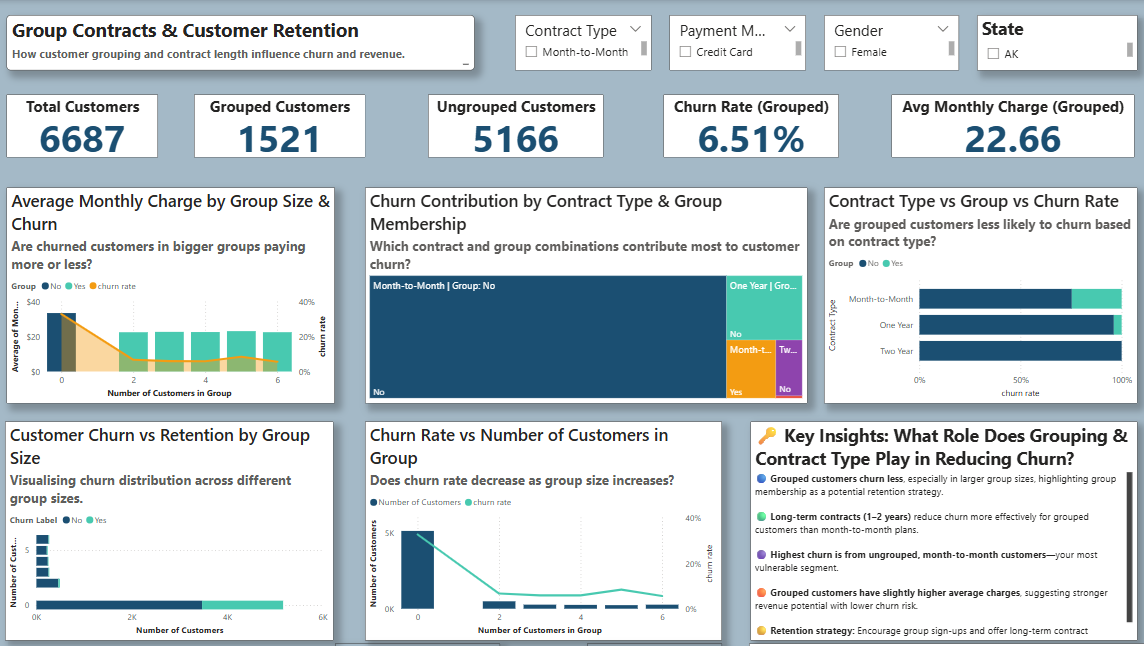

This screenshot's page, from the dashboard's own definition file:
{"tool":"powerbi","page":{"name":"Group Contracts & Customer Retention","canvas":[1640,960],"ordinal":4},"visuals":[{"type":"lineStackedColumnComboChart","title":"Average Monthly Charge by Group Size & Churn","fields":{"Category":["Databel - Data.Number of Customers in Group"],"Y2":["Databel - Data.churn rate"],"Y":["Avg(Databel - Data.Monthly Charge)"],"Series":["Databel - Data.Group"]},"box":[14.9,266.5,466.8,307],"z":0},{"type":"barChart","title":"Customer Churn vs Retention by Group Size","fields":{"Y":["Databel - Data.Number of Customers"],"Category":["Databel - Data.Number of Customers in Group"],"Series":["Databel - Data.Churn Label"]},"box":[12.8,599,466.8,311.2],"z":1000},{"type":"textbox","title":"Group Contracts & Customer Retention","box":[14.9,21.3,665.1,78.9],"z":2000},{"type":"slicer","fields":{"Values":["Databel - Data.Contract Type"]},"box":[737.6,21.3,194,78.9],"z":3000},{"type":"slicer","fields":{"Values":["Databel - Data.Payment Method"]},"box":[957.1,21.3,194,78.9],"z":4000},{"type":"slicer","fields":{"Values":["Databel - Data.Gender"]},"box":[1176.7,21.3,191.9,78.9],"z":5000},{"type":"card","title":"Total Customers","fields":{"Values":["Databel - Data.Number of Unique Customers"]},"box":[14.9,134.3,215.3,89.5],"z":6000},{"type":"card","title":"Grouped Customers","fields":{"Values":["Databel - Data.Grouped Customers"]},"box":[281.4,134.3,243,89.5],"z":7000},{"type":"card","title":"Ungrouped Customers","fields":{"Values":["Databel - Data.Ungrouped Customers"]},"box":[613.9,134.3,249.4,89.5],"z":8000},{"type":"card","title":"Churn Rate (Grouped)","fields":{"Values":["Databel - Data.Churn Rate (Grouped)"]},"box":[948.6,134.3,249.4,89.5],"z":9000},{"type":"card","title":"Avg Monthly Charge (Grouped)","fields":{"Values":["Databel - Data.Avg Monthly Charge (Grouped)"]},"box":[1272.6,134.3,345.3,89.5],"z":10000},{"type":"lineStackedColumnComboChart","title":"Churn Rate vs Number of Customers in Group","fields":{"Category":["Databel - Data.Number of Customers in Group"],"Y2":["Databel - Data.churn rate"],"Y":["Databel - Data.Number of Customers"]},"box":[524.4,599,507.4,311.2],"z":11000},{"type":"hundredPercentStackedBarChart","title":"Contract Type vs Group vs Churn Rate","fields":{"Category":["Databel - Data.Contract Type"],"Series":["Databel - Data.Group"],"Y":["Databel - Data.churn rate"]},"box":[1176.7,266.5,445.5,307],"z":12000},{"type":"treemap","title":"Churn Contribution by Contract Type & Group Membership","fields":{"Details":["Databel - Data.Group"],"Values":["Databel - Data.number of churned customers"],"Group":["Databel - Data.ContractGroup"]},"box":[524.4,266.5,628.9,307],"z":13000},{"type":"textbox","title":"🔑 Key Insights: What Role Does Grouping & Contract Type Play in Reducing Churn?","box":[1072.3,599,550,311.2],"z":14000},{"type":"textbox","title":"Power BI Dashboard | Analysing Customer Churn ","box":[1069.9,914.5,569.5,45.5],"z":15000},{"type":"slicer","title":"State","fields":{"Values":["Databel - Data.State"]},"box":[1394.2,21.3,228.1,78.9],"z":16000},{"type":"shape","title":"Next Page","box":[839.9,914.5,191.9,44.8],"z":16001},{"type":"shape","title":"Previous Page","box":[481.8,914.5,234.5,44.8],"z":16002}]}

Visuals, with their boxes on the page's 1640x960 design canvas (x1, y1, x2, y2). These are canvas units, not pixel positions in the 1144x646 screenshot, which may show the page scaled, cropped or inside an application window:
"Average Monthly Charge by Group Size & Churn" lineStackedColumnComboChart: bbox=[15, 266, 482, 574]
"Customer Churn vs Retention by Group Size" barChart: bbox=[13, 599, 480, 910]
"Group Contracts & Customer Retention" textbox: bbox=[15, 21, 680, 100]
slicer - Databel - Data.Contract Type: bbox=[738, 21, 932, 100]
slicer - Databel - Data.Payment Method: bbox=[957, 21, 1151, 100]
slicer - Databel - Data.Gender: bbox=[1177, 21, 1369, 100]
"Total Customers" card: bbox=[15, 134, 230, 224]
"Grouped Customers" card: bbox=[281, 134, 524, 224]
"Ungrouped Customers" card: bbox=[614, 134, 863, 224]
"Churn Rate (Grouped)" card: bbox=[949, 134, 1198, 224]
"Avg Monthly Charge (Grouped)" card: bbox=[1273, 134, 1618, 224]
"Churn Rate vs Number of Customers in Group" lineStackedColumnComboChart: bbox=[524, 599, 1032, 910]
"Contract Type vs Group vs Churn Rate" hundredPercentStackedBarChart: bbox=[1177, 266, 1622, 574]
"Churn Contribution by Contract Type & Group Membership" treemap: bbox=[524, 266, 1153, 574]
"🔑 Key Insights: What Role Does Grouping & Contract Type Play in Reducing Churn?" textbox: bbox=[1072, 599, 1622, 910]
"Power BI Dashboard | Analysing Customer Churn " textbox: bbox=[1070, 914, 1639, 960]
"State" slicer: bbox=[1394, 21, 1622, 100]
"Next Page" shape: bbox=[840, 914, 1032, 959]
"Previous Page" shape: bbox=[482, 914, 716, 959]
